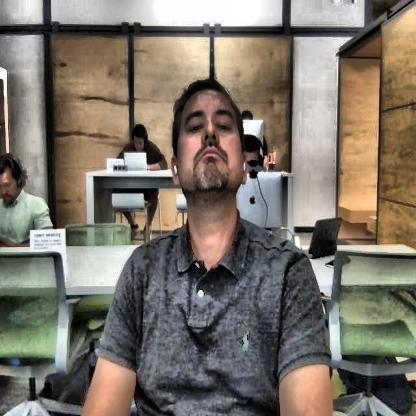not_wear: (175, 81, 243, 219), (0, 157, 23, 208)
